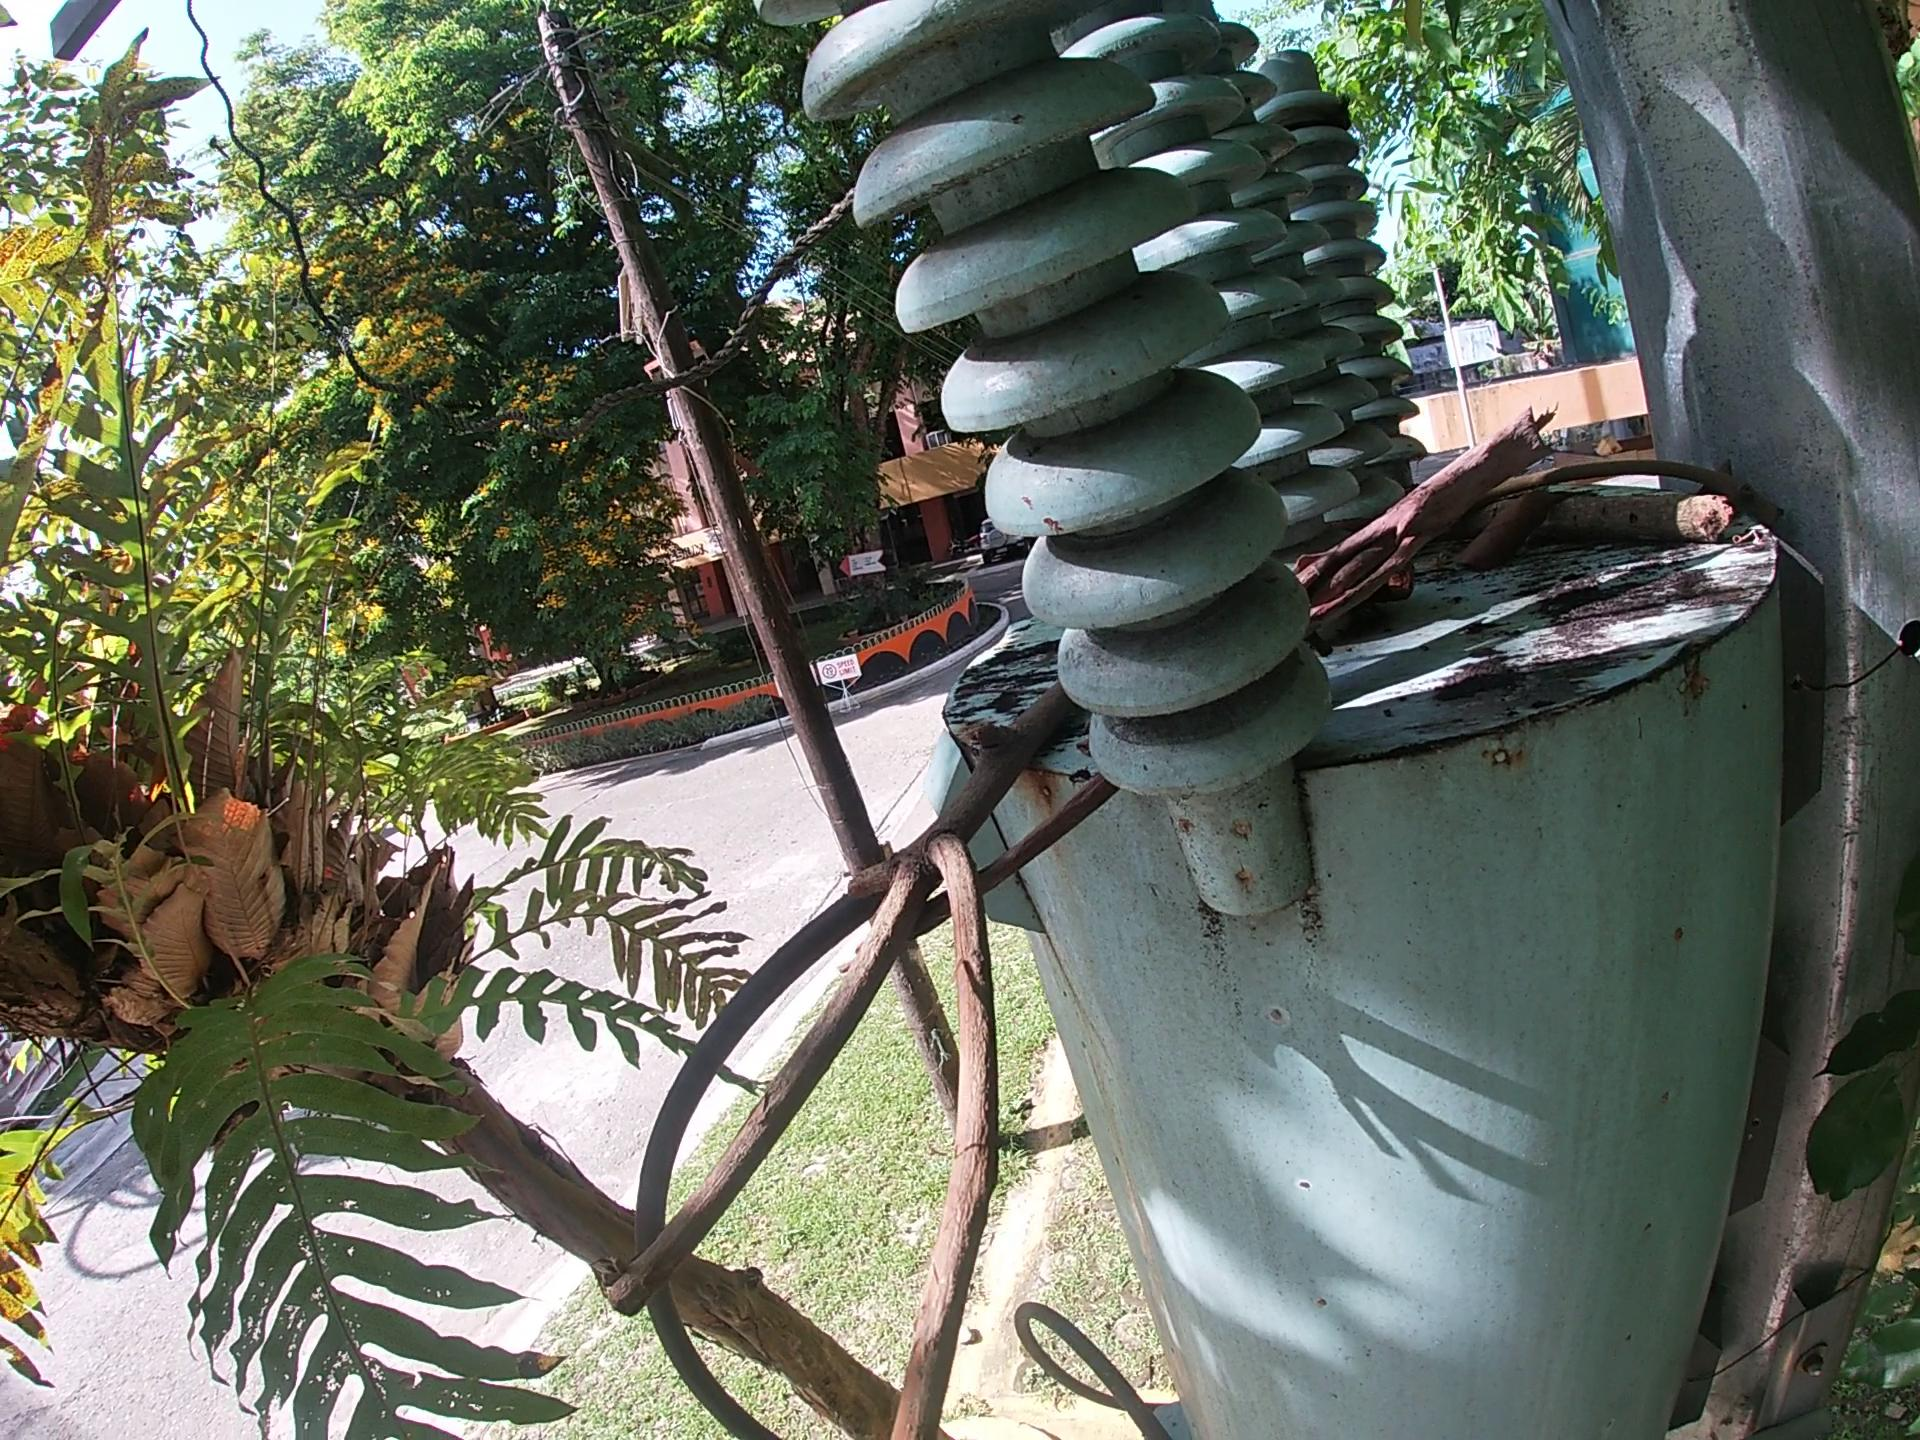leaf: (1448, 481, 1592, 573)
tree branch: (593, 669, 1084, 1440), (1288, 399, 1566, 650), (909, 771, 1123, 944), (1488, 455, 1807, 522), (1460, 489, 1731, 552)
